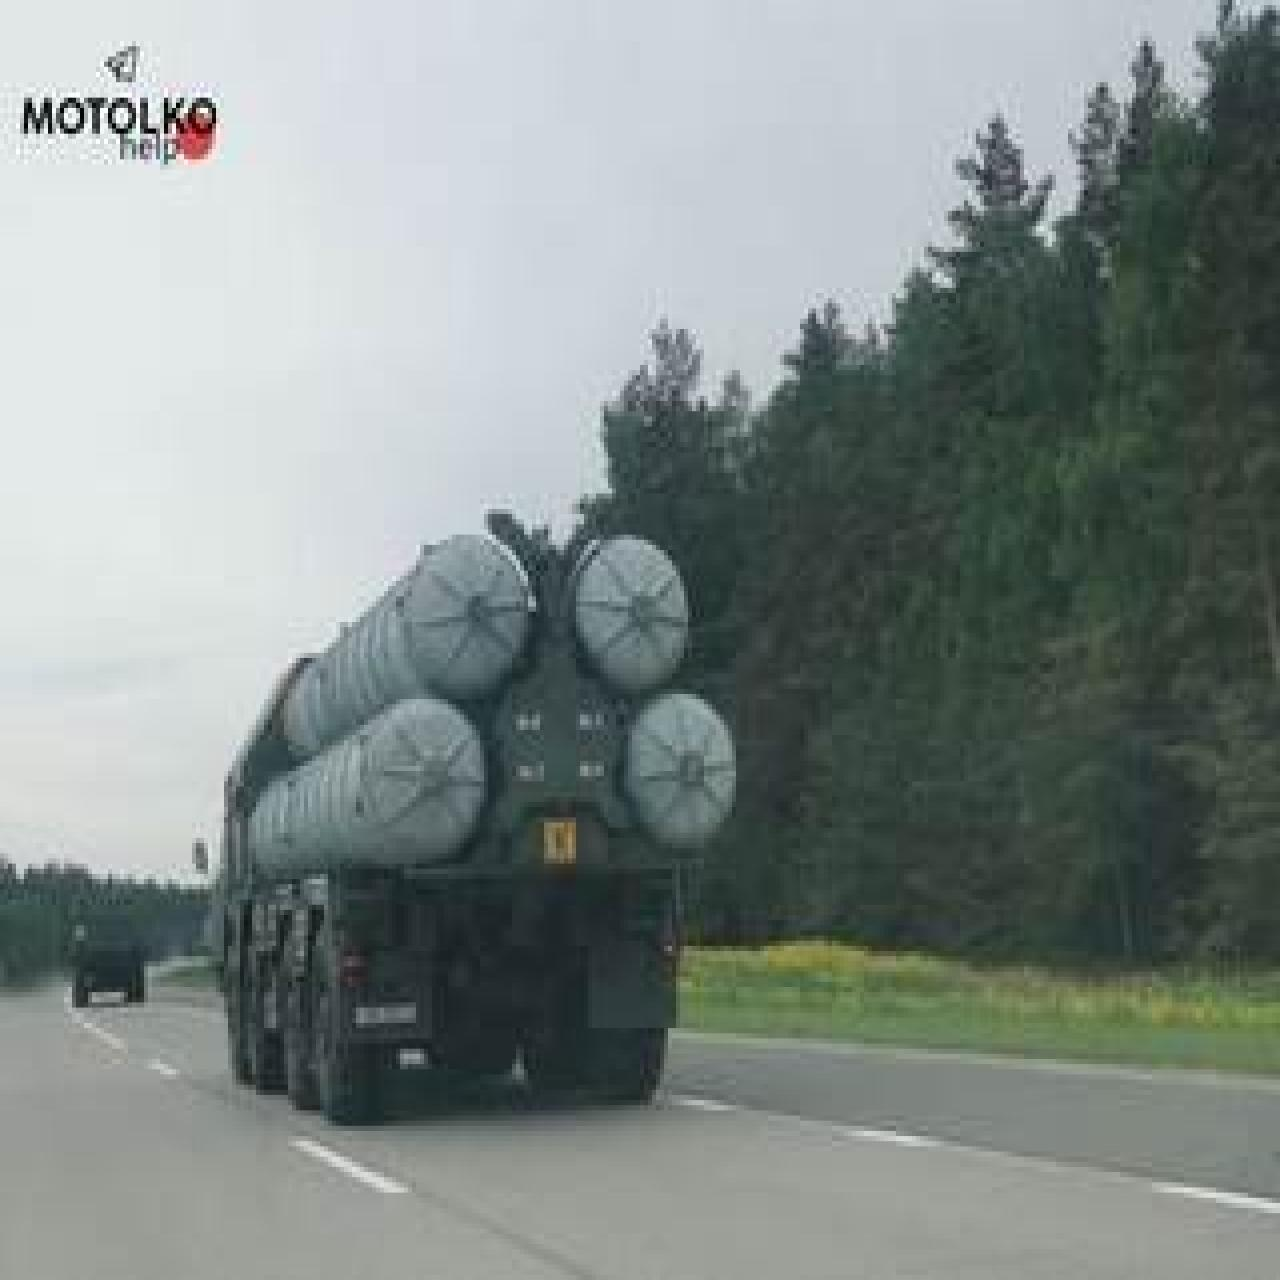MIL_Veh: (211, 516, 747, 1129)
